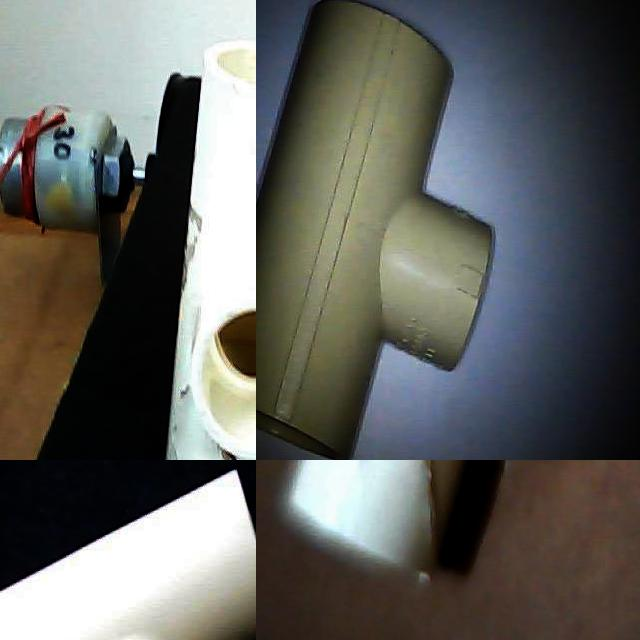Defective: (350, 460, 451, 571), (175, 195, 212, 350)
T Joint: (256, 0, 495, 460), (0, 469, 256, 640), (165, 41, 256, 460), (276, 460, 470, 579)
